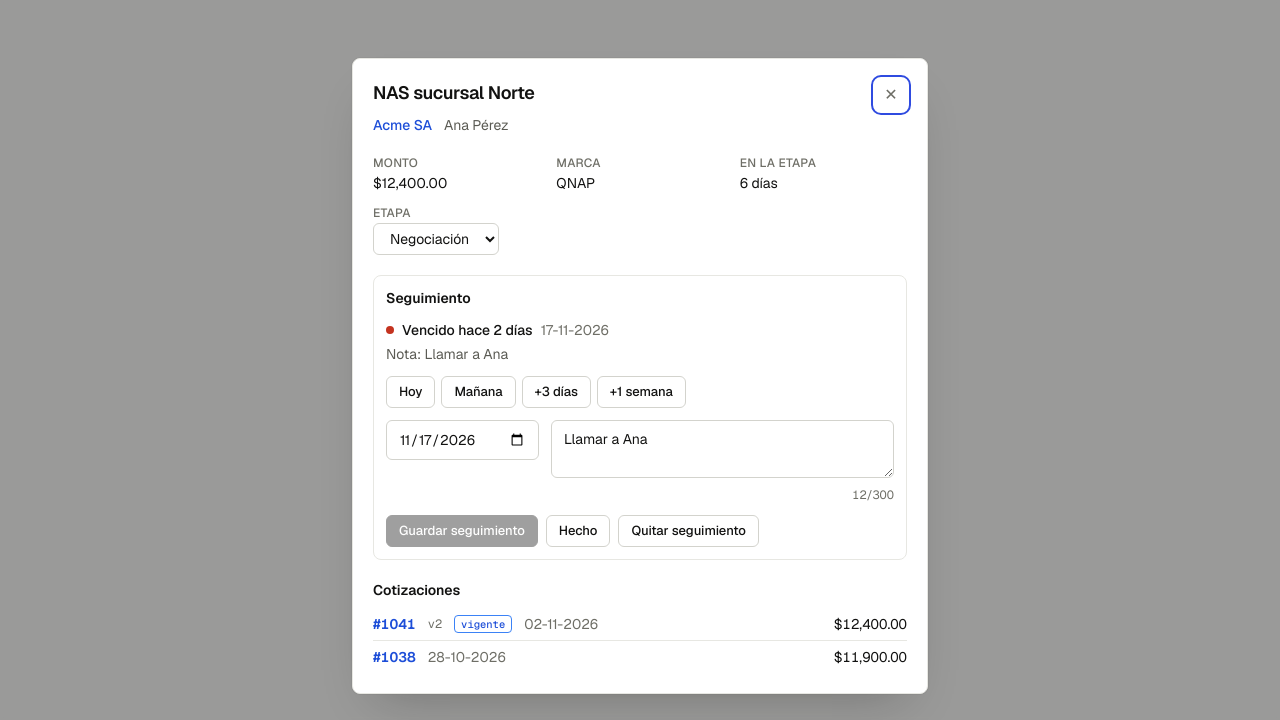
Scenario: OportunidadPanel › seguimiento › "Quitar seguimiento" guarda null/null de inmediato
Expected: the dialog "NAS sucursal Norte" is shown, [352, 58, 928, 694]
Expected: the heading "Seguimiento" is shown, [386, 289, 471, 307]
Click the button "Quitar seguimiento" at {"x": 689, "y": 531}, box [618, 515, 759, 547]
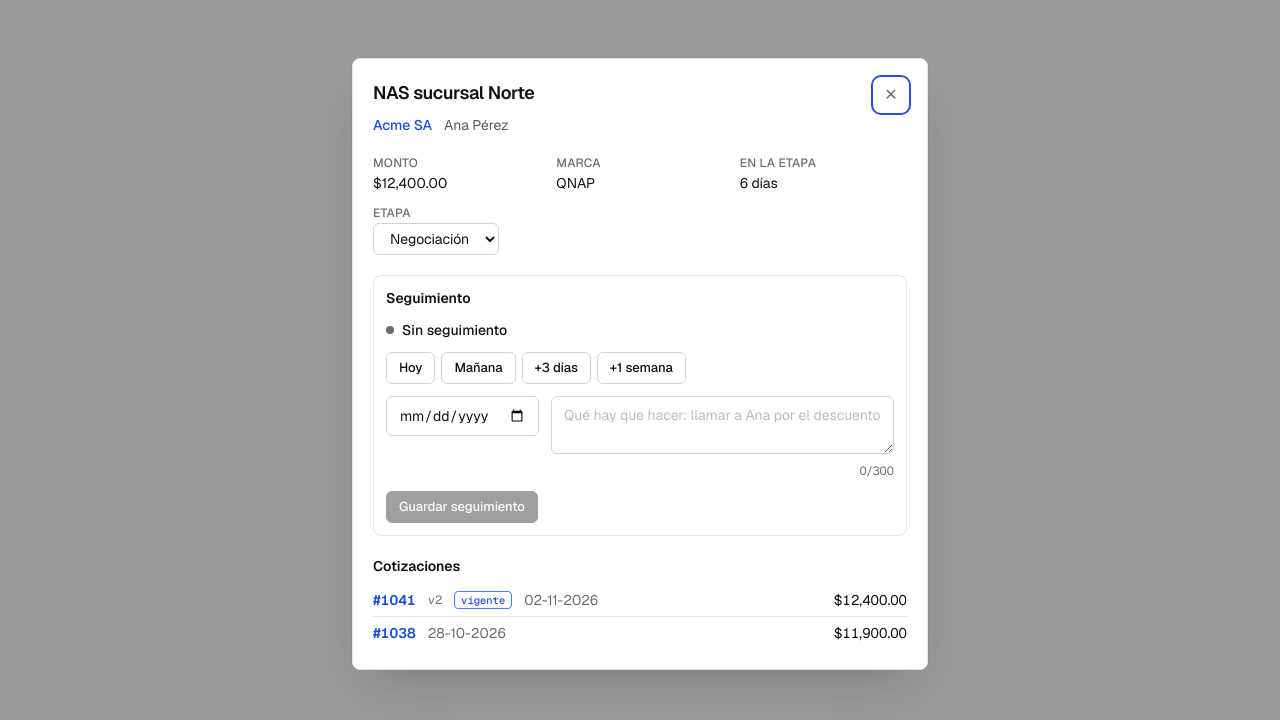
Now the text "Sin seguimiento" is shown, box [402, 320, 507, 340]
Now the date field named "Fecha del próximo seguimiento" is empty, box [386, 396, 539, 436]
Now the text box named "Nota del seguimiento" is empty, box [551, 396, 894, 454]
